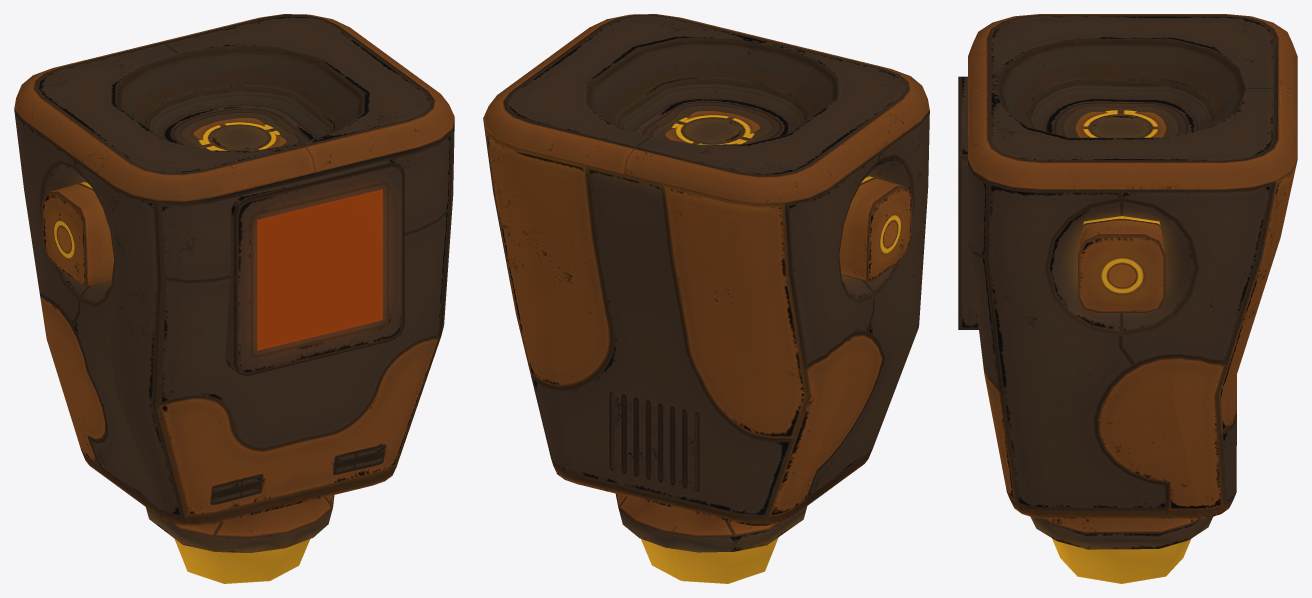
The model's file is Bot_Body_Mesh.glb.
The picture shows the model from 3 angles, left to right: view 1: azimuth 30°, elevation 25°; view 2: azimuth 150°, elevation 25°; view 3: azimuth 270°, elevation 25°; orthographic projection.
Parts seen in each view (by area): view 1: Body_Mesh; view 2: Body_Mesh; view 3: Body_Mesh.
Boxes of the visible parts, x1,y1,x2,y2 form: Body_Mesh: (14,14,454,583); Body_Mesh: (483,14,929,583); Body_Mesh: (958,14,1297,583).
Bounding box in the file's own units: 0.4395 × 0.5701 × 0.3588.
1 material, 1 textured.
